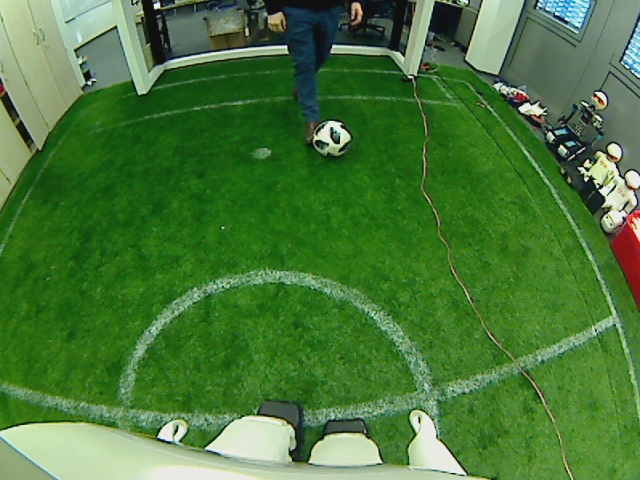ball: (310, 117, 354, 158)
